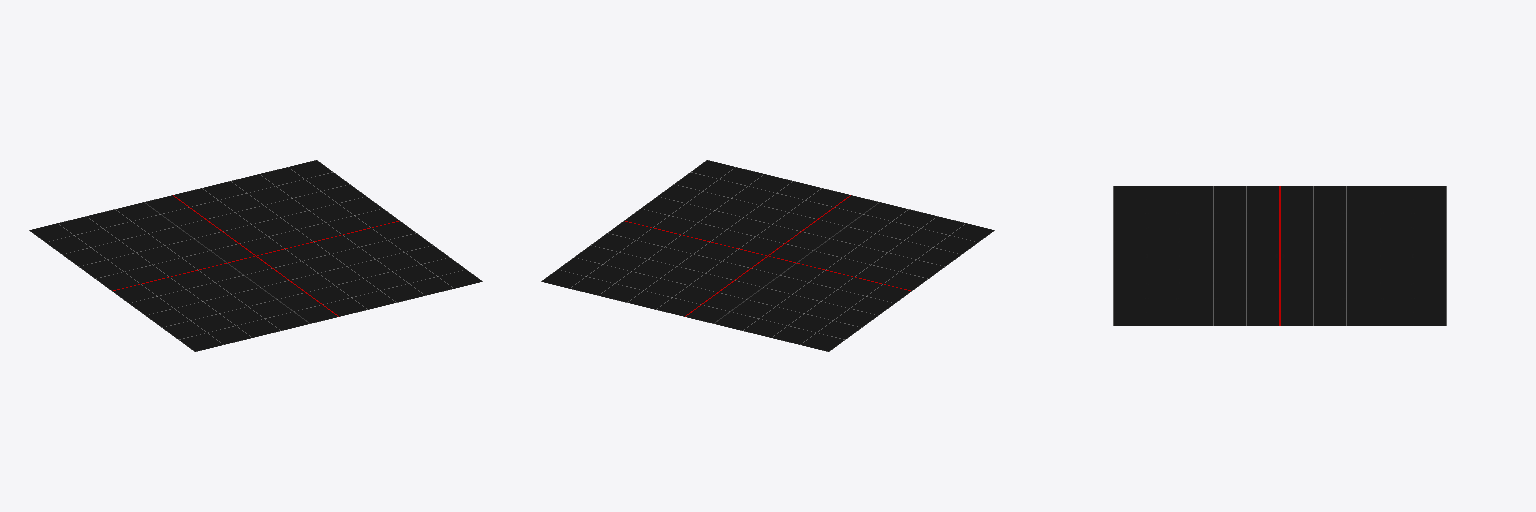
3 renders of one model, left to right at view 1: azimuth 30°, elevation 25°; view 2: azimuth 150°, elevation 25°; view 3: azimuth 270°, elevation 25°, orthographic.
Size of the model in its own units: 45 by 0 by 45.
Materials: 1 (1 with a texture image).